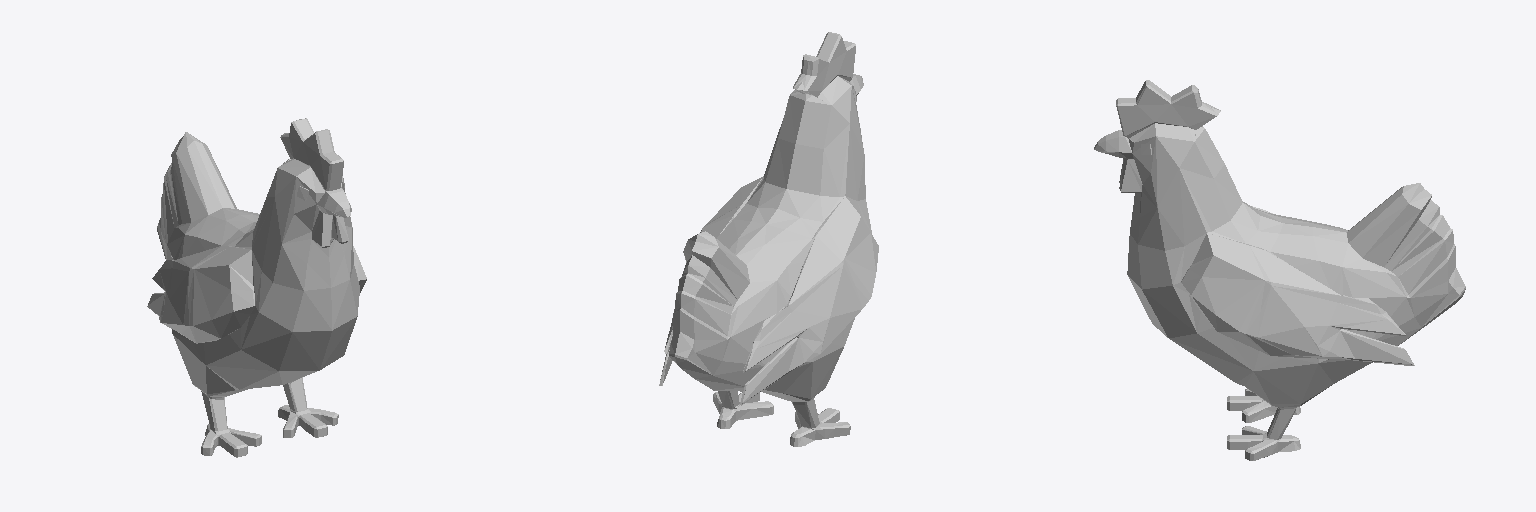
File: Low_Poly_Chicken.obj
3 views of the same model, side by side, from view 1: azimuth 30°, elevation 25°; view 2: azimuth 150°, elevation 25°; view 3: azimuth 270°, elevation 25° (orthographic).
Parts seen in each view (by area): view 1: Low_Poly_Chicken_v1_001; view 2: Low_Poly_Chicken_v1_001; view 3: Low_Poly_Chicken_v1_001.
Part boxes in pixels (x1,y1,x2,y2): Low_Poly_Chicken_v1_001: (147, 118, 366, 457); Low_Poly_Chicken_v1_001: (659, 32, 878, 446); Low_Poly_Chicken_v1_001: (1094, 80, 1465, 460).
Bounding box in the file's own units: 5.7 × 11.29 × 10.94.